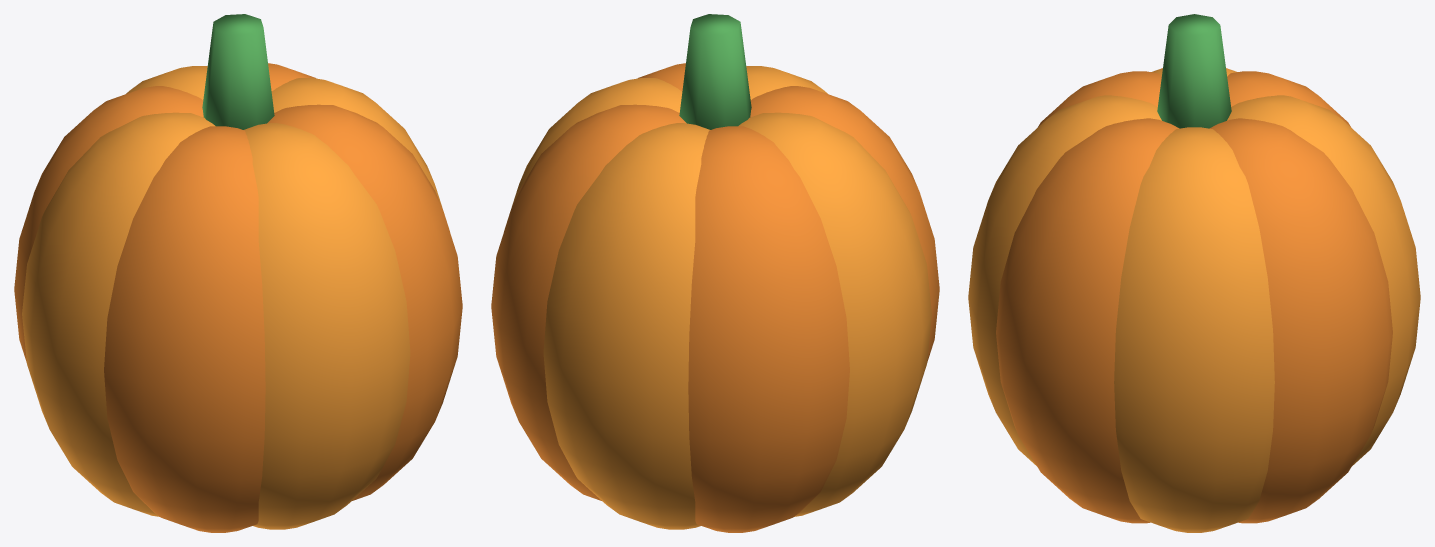
File: pumpkin.glb
3 renders of one model, left to right at view 1: azimuth 30°, elevation 25°; view 2: azimuth 150°, elevation 25°; view 3: azimuth 270°, elevation 25°, orthographic.
Parts seen in each view (by area): view 1: pumpkin; view 2: pumpkin; view 3: pumpkin.
Boxes of the visible parts, bbox=[...] form: pumpkin: bbox=[14, 14, 462, 532]; pumpkin: bbox=[491, 14, 939, 532]; pumpkin: bbox=[968, 14, 1420, 532].
Size of the model in its own units: 0.8717 by 1 by 0.8805.
